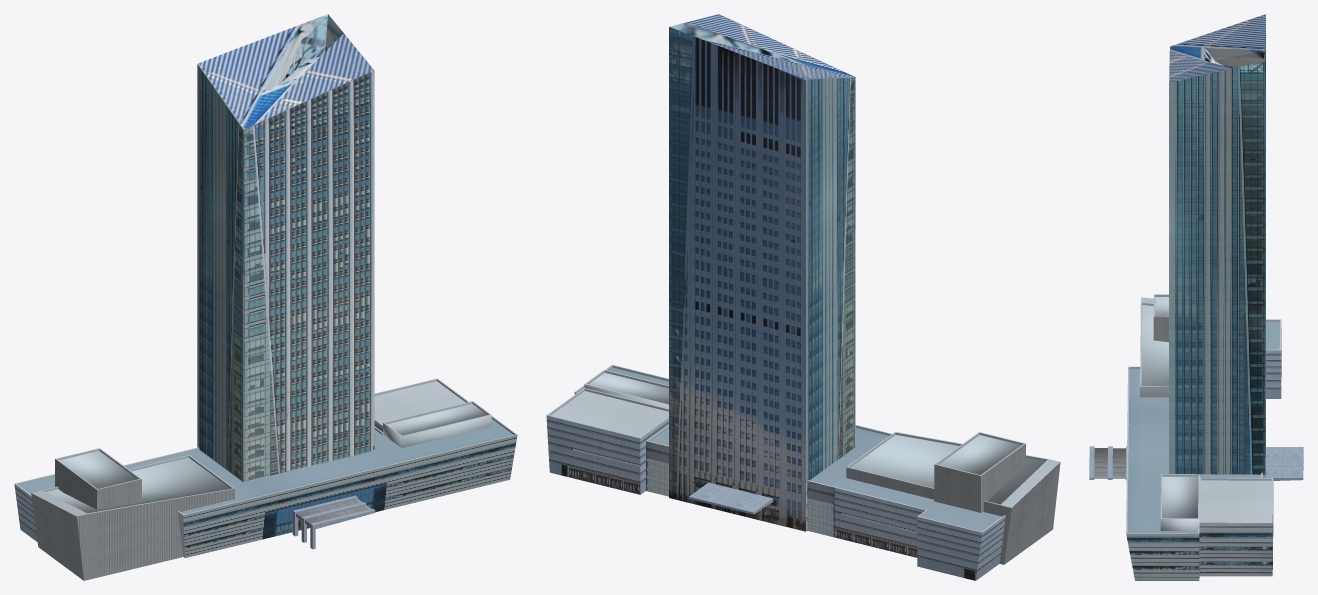
3 renders of one model, left to right at view 1: azimuth 30°, elevation 25°; view 2: azimuth 150°, elevation 25°; view 3: azimuth 270°, elevation 25°, orthographic. The views are drawn at different scales.
Parts seen in each view (by area): view 1: MainBuilding; view 2: MainBuilding; view 3: MainBuilding.
Boxes of the visible parts, x1,y1,x2,y2 form: MainBuilding: (14,14,517,580); MainBuilding: (546,14,1060,580); MainBuilding: (1089,14,1303,580).
Bounding box in the file's own units: 1.82 × 1.79 × 0.7565.
1 material, 1 textured.
